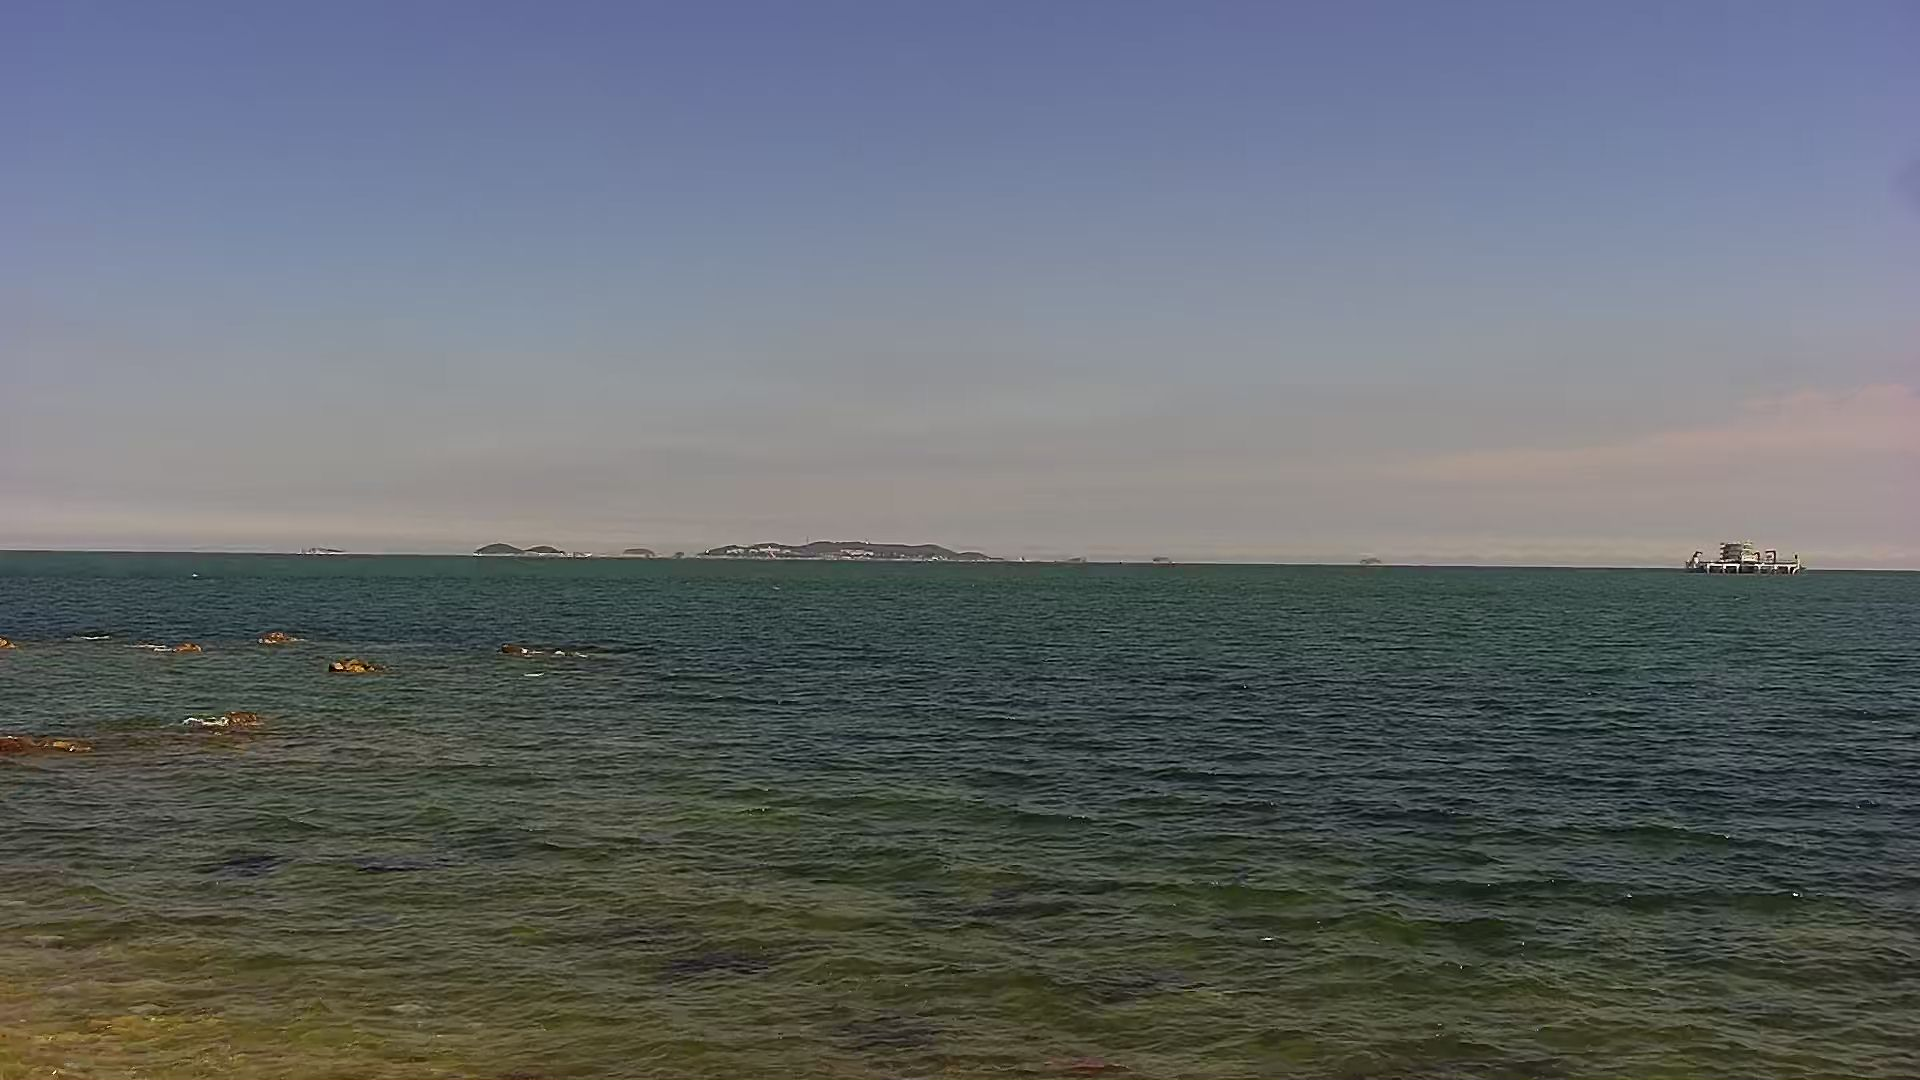platform: (1671, 527, 1826, 578)
rock: (699, 531, 1019, 563), (4, 715, 96, 758), (323, 646, 400, 682), (487, 634, 564, 663), (463, 530, 527, 563), (211, 703, 272, 733), (157, 633, 225, 659), (1142, 550, 1196, 578), (245, 625, 302, 651), (527, 534, 580, 562), (617, 535, 671, 562), (295, 537, 355, 556), (1356, 546, 1396, 568), (1064, 549, 1101, 563)
